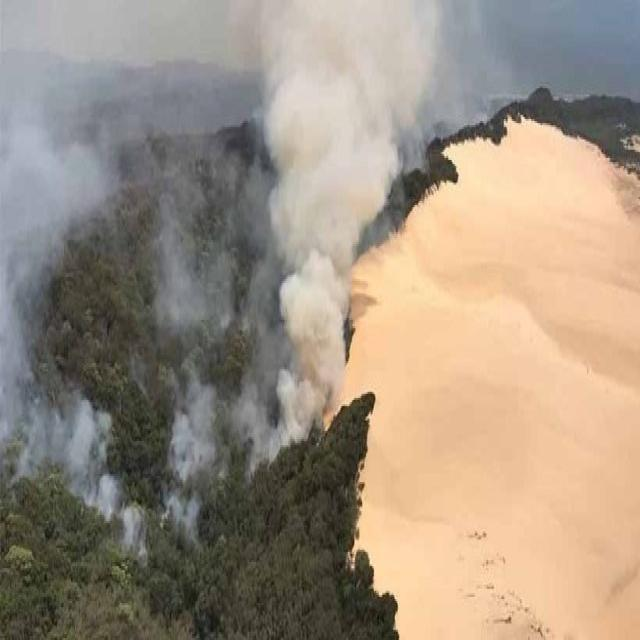Smoke: (241, 0, 442, 435), (2, 16, 125, 496), (147, 157, 231, 566)
